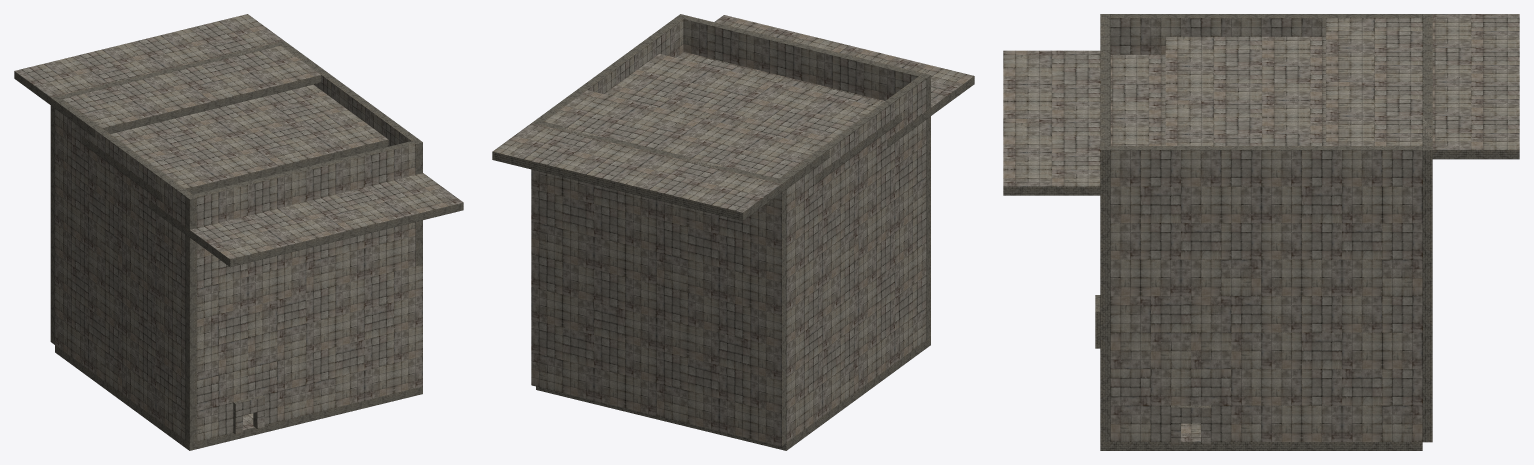
Rendered from Stage2.fbx.
The picture shows the model from 3 angles, left to right: view 1: azimuth 30°, elevation 25°; view 2: azimuth 150°, elevation 25°; view 3: azimuth 270°, elevation 25°; orthographic projection. The views are drawn at different scales.
Parts seen in each view (by area): view 1: Stage2Wall, Stage2Ceiling, Stage2Floor; view 2: Stage2Wall, Stage2Ceiling, Stage2Floor; view 3: Stage2Wall, Stage2Ceiling, Stage2Floor.
Boxes of the visible parts, x1,y1,x2,y2 form: Stage2Wall: (50, 40, 422, 443); Stage2Ceiling: (14, 14, 463, 267); Stage2Floor: (55, 345, 422, 450); Stage2Wall: (531, 14, 930, 446); Stage2Ceiling: (492, 15, 974, 220); Stage2Floor: (536, 337, 930, 450); Stage2Wall: (1095, 14, 1432, 444); Stage2Ceiling: (1003, 14, 1519, 195); Stage2Floor: (1100, 423, 1422, 450).
Size of the model in its own units: 3249 by 5127 by 3296.
1 material, 1 textured.
